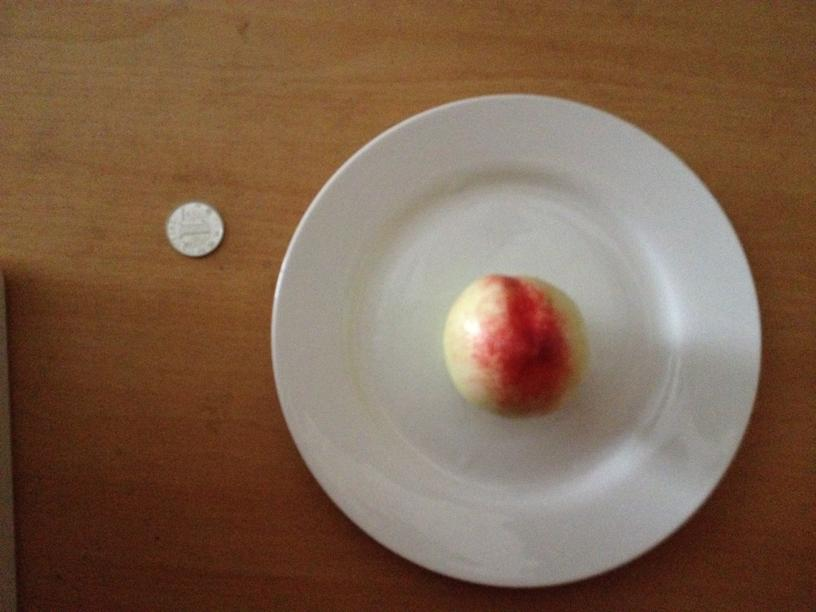coin: (168, 200, 225, 259)
peach: (439, 269, 588, 417)
